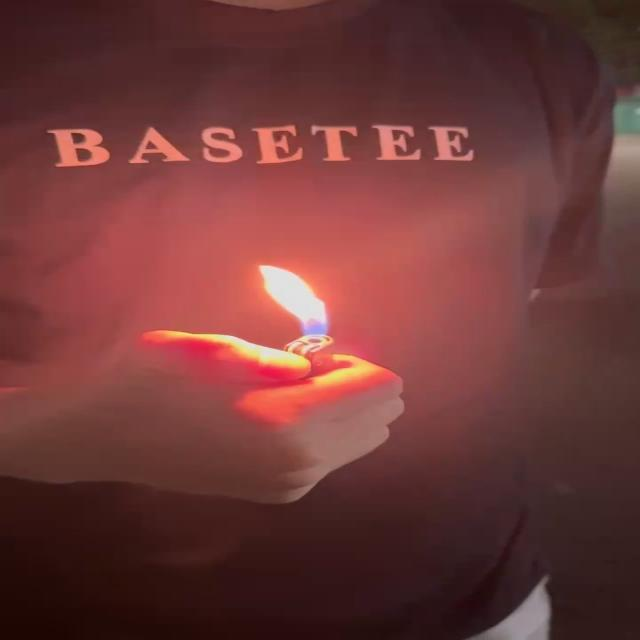Fire: (260, 261, 337, 344)
